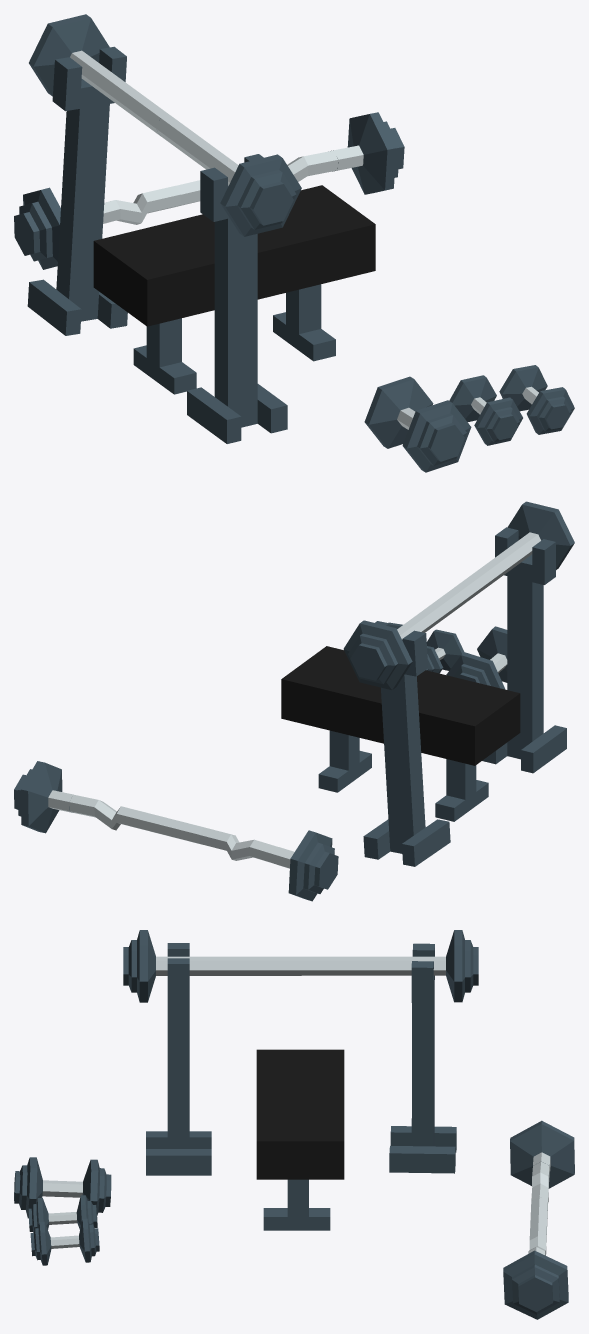
The model's file is bench-set.glb.
3 renders of one model, top to bottom at view 1: azimuth 30°, elevation 25°; view 2: azimuth 150°, elevation 25°; view 3: azimuth 270°, elevation 25°, orthographic. The views are drawn at different scales.
Parts seen in each view (by area): view 1: group236905106, group1987805641, group1746880361, group2021887595, group728380027, group1137308894, group531792155, group1486037733, group1218496634, group1287973650, group1207894103, group1785171088; view 2: group236905106, group2021887595, group1746880361, group1987805641, group1137308894, group728380027, group1486037733, group531792155, group1287973650; view 3: group236905106, group2021887595, group1987805641, group1746880361, group1137308894, group728380027, group531792155, group1486037733, group1207894103, group1218496634, group1287973650, group1785171088.
Boxes of the visible parts, x1,y1,x2,y2 form: group236905106: (93,185,375,394); group1987805641: (27,46,127,335); group1746880361: (187,154,287,443); group2021887595: (14,112,404,269); group728380027: (155,115,301,236); group1137308894: (29,14,169,135); group531792155: (402,400,471,472); group1486037733: (364,376,433,448); group1218496634: (526,387,574,434); group1287973650: (474,397,522,445); group1207894103: (499,365,547,411); group1785171088: (449,375,496,421); group236905106: (281,646,520,821); group2021887595: (14,761,338,901); group1746880361: (482,527,566,773); group1987805641: (363,621,450,866); group1137308894: (343,587,467,689); group728380027: (455,501,574,603); group1486037733: (446,652,505,689); group531792155: (477,626,507,682); group1287973650: (426,629,464,670); group236905106: (256,1049,344,1230); group2021887595: (503,1120,574,1319); group1987805641: (389,943,456,1173); group1746880361: (146,943,211,1175); group1137308894: (301,930,478,1002); group728380027: (123,930,301,1002); group531792155: (14,1157,62,1218); group1486037733: (62,1159,111,1215); group1207894103: (64,1218,99,1262); group1218496634: (30,1221,65,1265); group1287973650: (28,1197,63,1232); group1785171088: (62,1195,97,1229).
Bounding box in the file's own units: 1.45 × 0.9726 × 2.05.
